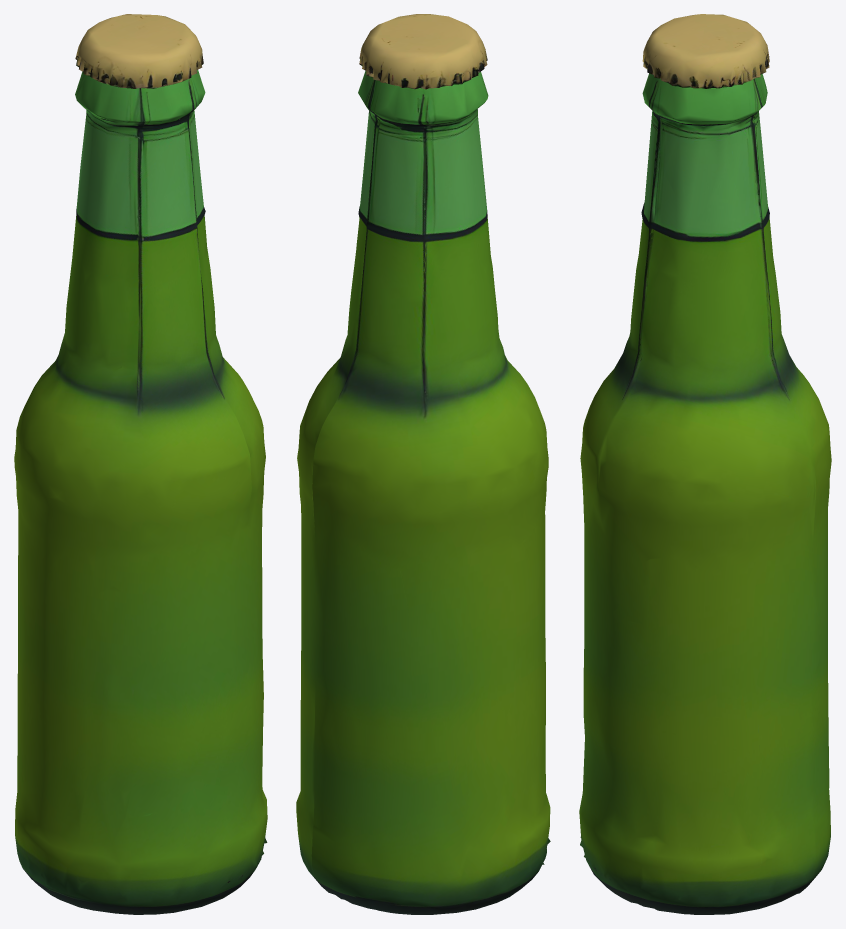
Rendered from botella.glb.
The picture shows the model from 3 angles, left to right: view 1: azimuth 30°, elevation 25°; view 2: azimuth 150°, elevation 25°; view 3: azimuth 270°, elevation 25°; orthographic projection.
Visible parts, largest first — view 1: tripo_node_74bd30a5-d270-4667-a27a-709dbd52b7d0; view 2: tripo_node_74bd30a5-d270-4667-a27a-709dbd52b7d0; view 3: tripo_node_74bd30a5-d270-4667-a27a-709dbd52b7d0.
Boxes of the visible parts, x1,y1,x2,y2 form: tripo_node_74bd30a5-d270-4667-a27a-709dbd52b7d0: (14, 14, 267, 914); tripo_node_74bd30a5-d270-4667-a27a-709dbd52b7d0: (296, 14, 550, 914); tripo_node_74bd30a5-d270-4667-a27a-709dbd52b7d0: (579, 14, 831, 914).
Size of the model in its own units: 0.0714 by 0.26 by 0.071.
1 material, 1 textured.
